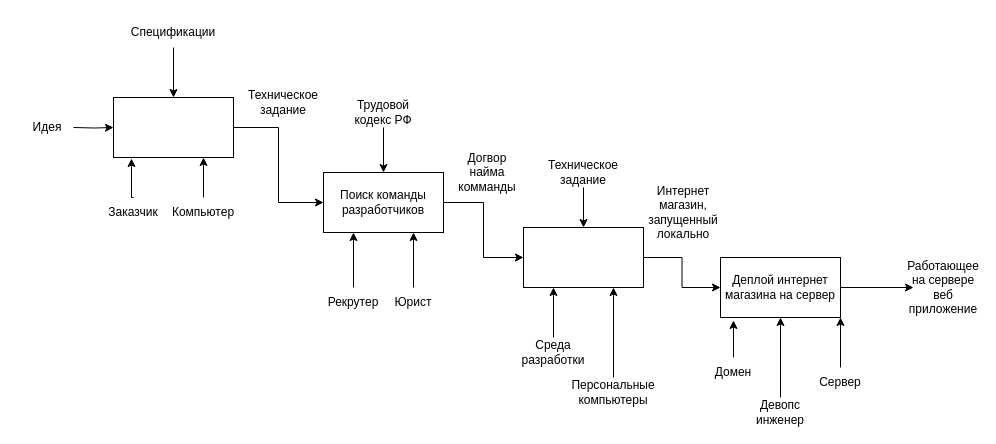
The diagram is 996 pixels wide and 444 high, and some of its shapes have lost their labels. Here are the shapes that lost their labels. From the top down, the box of each, then its label:
(112, 96, 234, 158): Создание техническоого задания
(522, 226, 644, 288): Разработка интернет магазина
